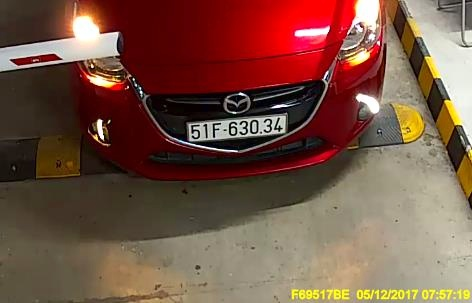plate: (183, 109, 288, 145)
